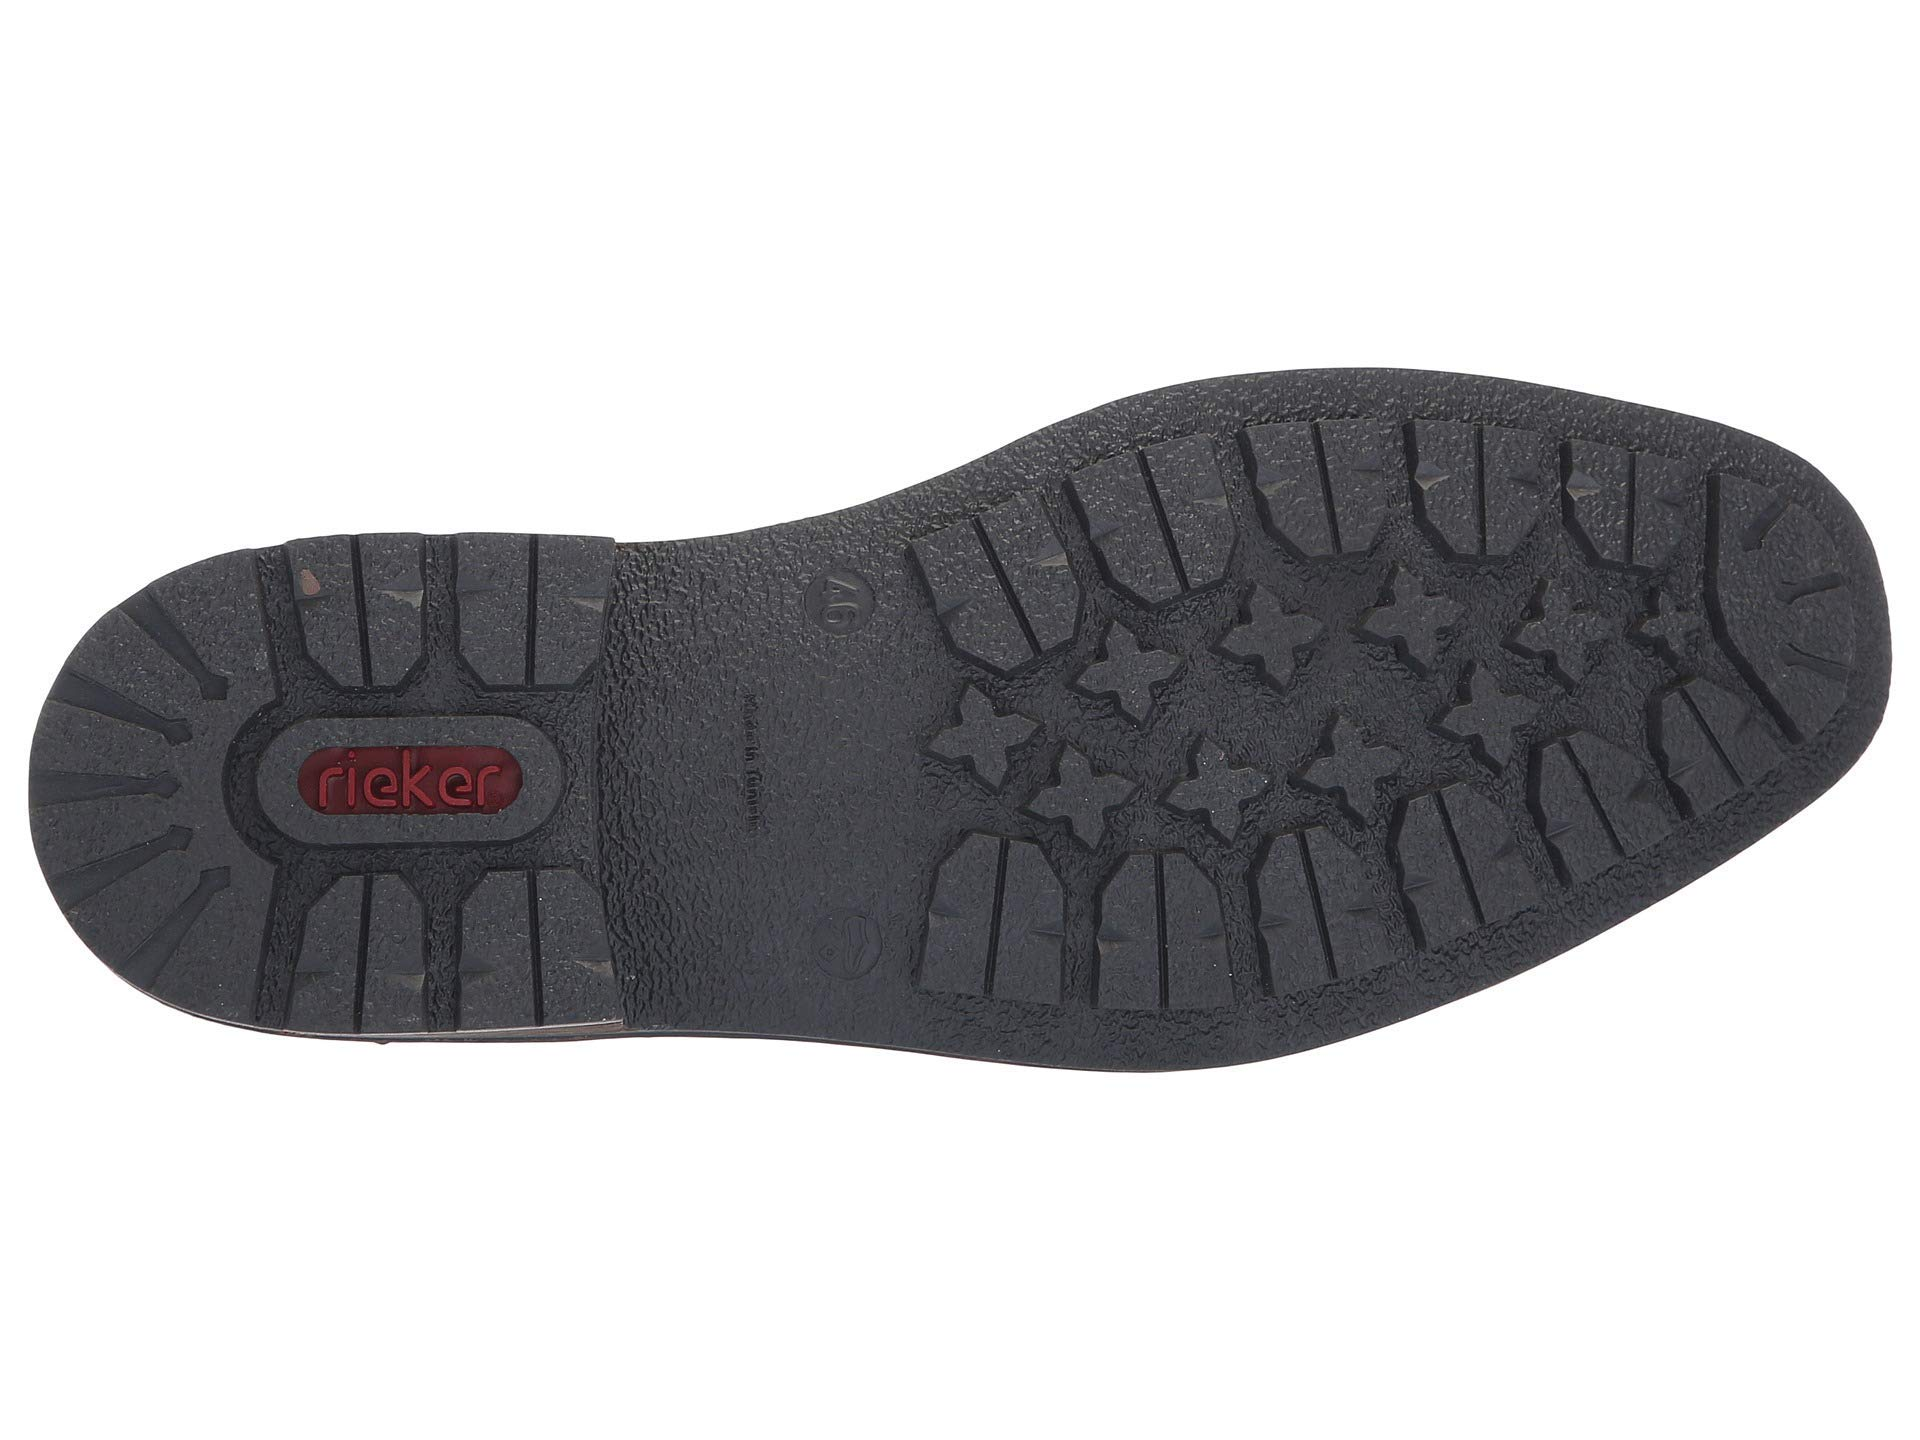circle: (218, 666, 599, 944)
star: (1349, 510, 1627, 818), (1061, 582, 1341, 856)
text: (218, 666, 599, 944)
